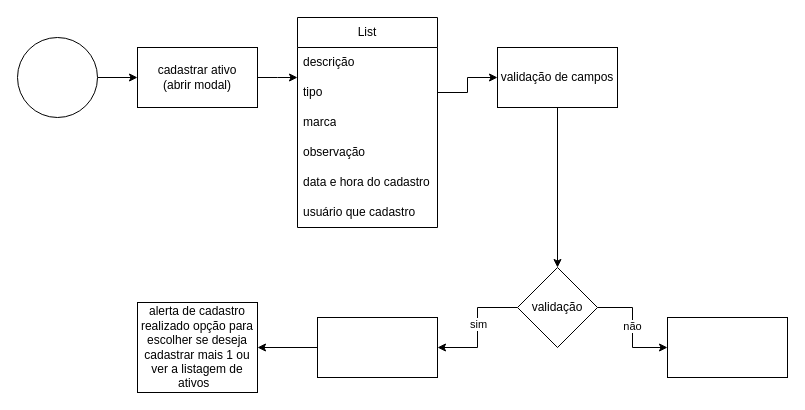
The diagram is 805 pixels wide and 410 high, and some of its shapes have lost their labels. Here are the shapes that lost their labels. From the top down, the centre of each, then its label:
(57,77): inicio
(377,347): cadastrar
(727,347): alerta informando para preencher todos os campos
